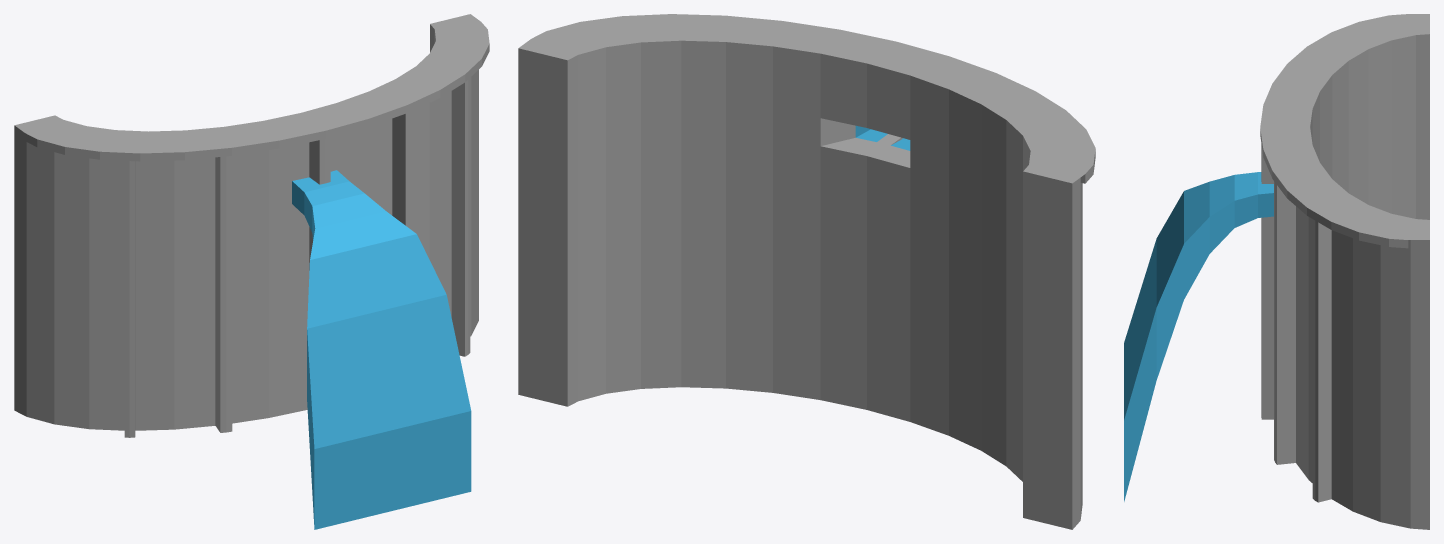
File: dam_model.fbx
3 views of the same model, side by side, from view 1: azimuth 30°, elevation 25°; view 2: azimuth 150°, elevation 25°; view 3: azimuth 270°, elevation 25° (orthographic). The views are drawn at different scales.
Parts seen in each view (by area): view 1: 円柱; view 2: 円柱; view 3: 円柱.
Boxes of the visible parts, left/top/right/bottom form: 円柱: left=14, top=14, right=489, bottom=529; 円柱: left=518, top=14, right=1095, bottom=529; 円柱: left=1124, top=14, right=1429, bottom=529.
Bounding box in the file's own units: 335 × 232 × 191.
